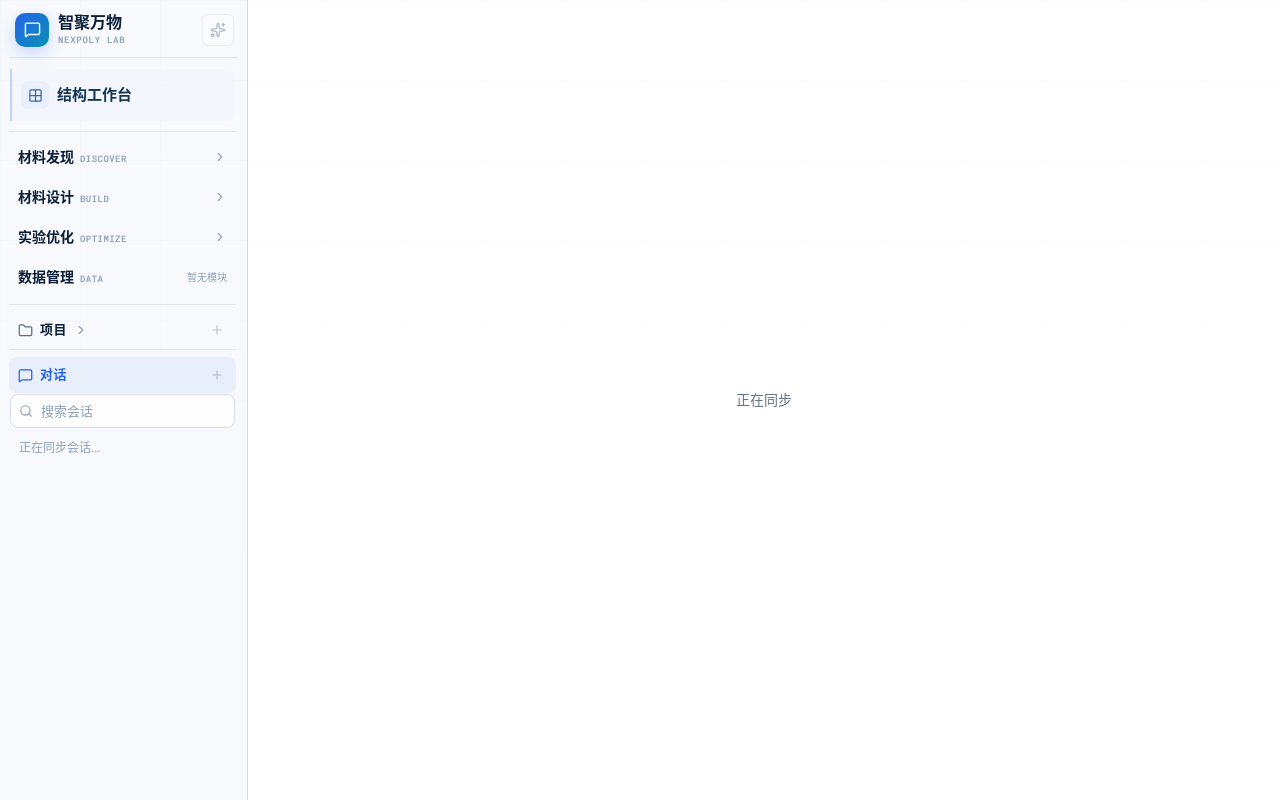
Test: 智聚万物首页 › 未配置工作台时只显示同步占位且不挂载 iframe
Click the button with aria-label "展开项目": (53, 330) left=15, top=318, right=91, bottom=342
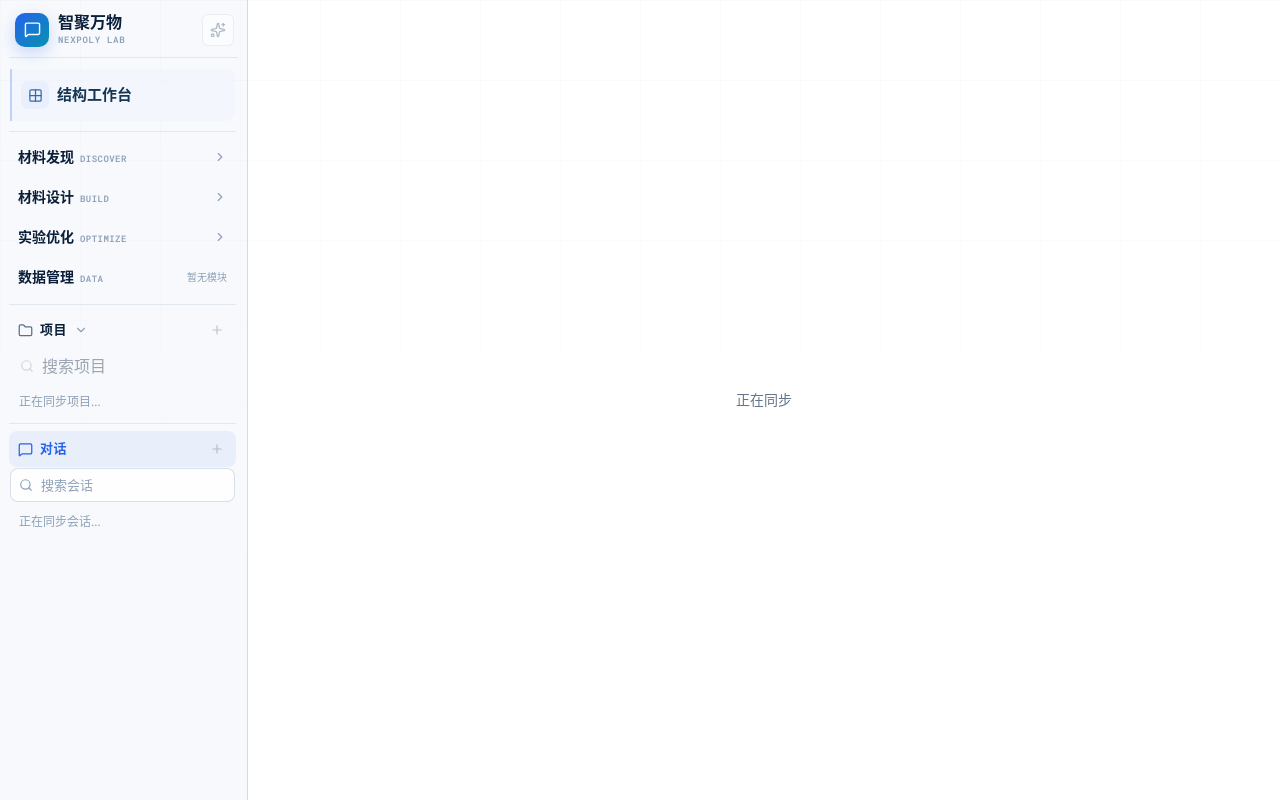
Expected: the button named "新建项目" is disabled, left=203, top=316, right=230, bottom=344
Now the button "搜索项目" is disabled, box left=10, top=349, right=235, bottom=383
Now the text "正在同步项目…" is shown, box left=19, top=394, right=101, bottom=409
